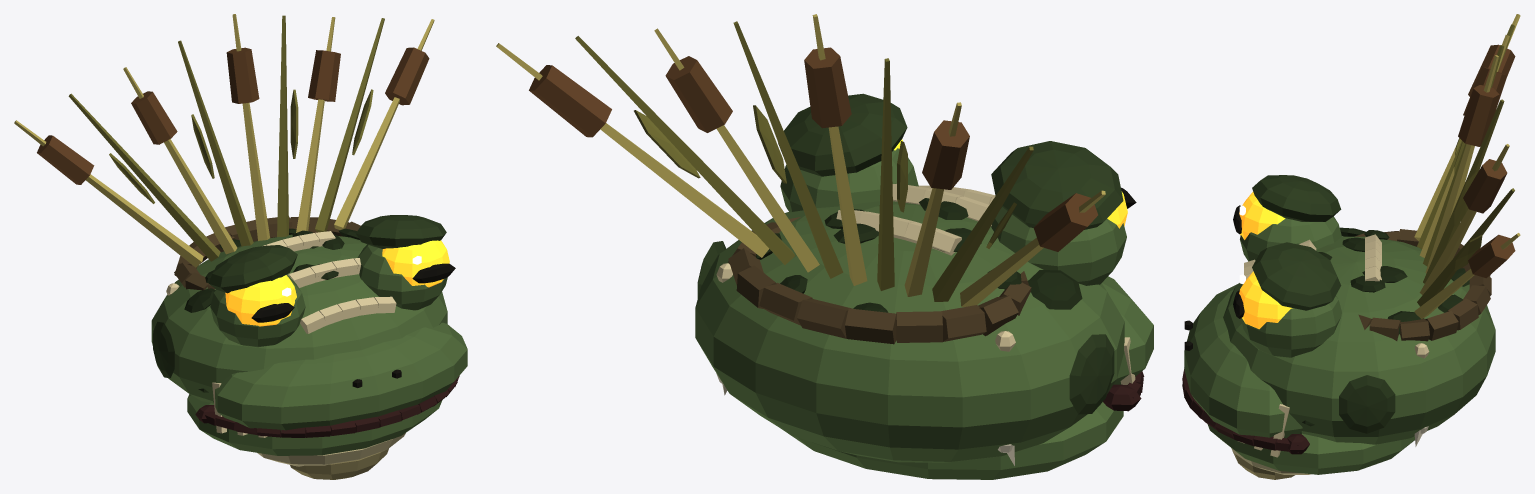
Rendered from pondkin_mudcaller_head.glb.
The picture shows the model from 3 angles, left to right: view 1: azimuth 30°, elevation 25°; view 2: azimuth 150°, elevation 25°; view 3: azimuth 270°, elevation 25°; orthographic projection. The views are drawn at different scales.
Parts seen in each view (by area): view 1: pondkin_mudcaller_head; view 2: pondkin_mudcaller_head; view 3: pondkin_mudcaller_head.
Part boxes in pixels (box(x1,y1,x2,y2)): pondkin_mudcaller_head: box(14, 14, 467, 479); pondkin_mudcaller_head: box(496, 14, 1153, 479); pondkin_mudcaller_head: box(1182, 14, 1520, 479).
Bounding box in the file's own units: 1.93 × 1.69 × 1.25.
